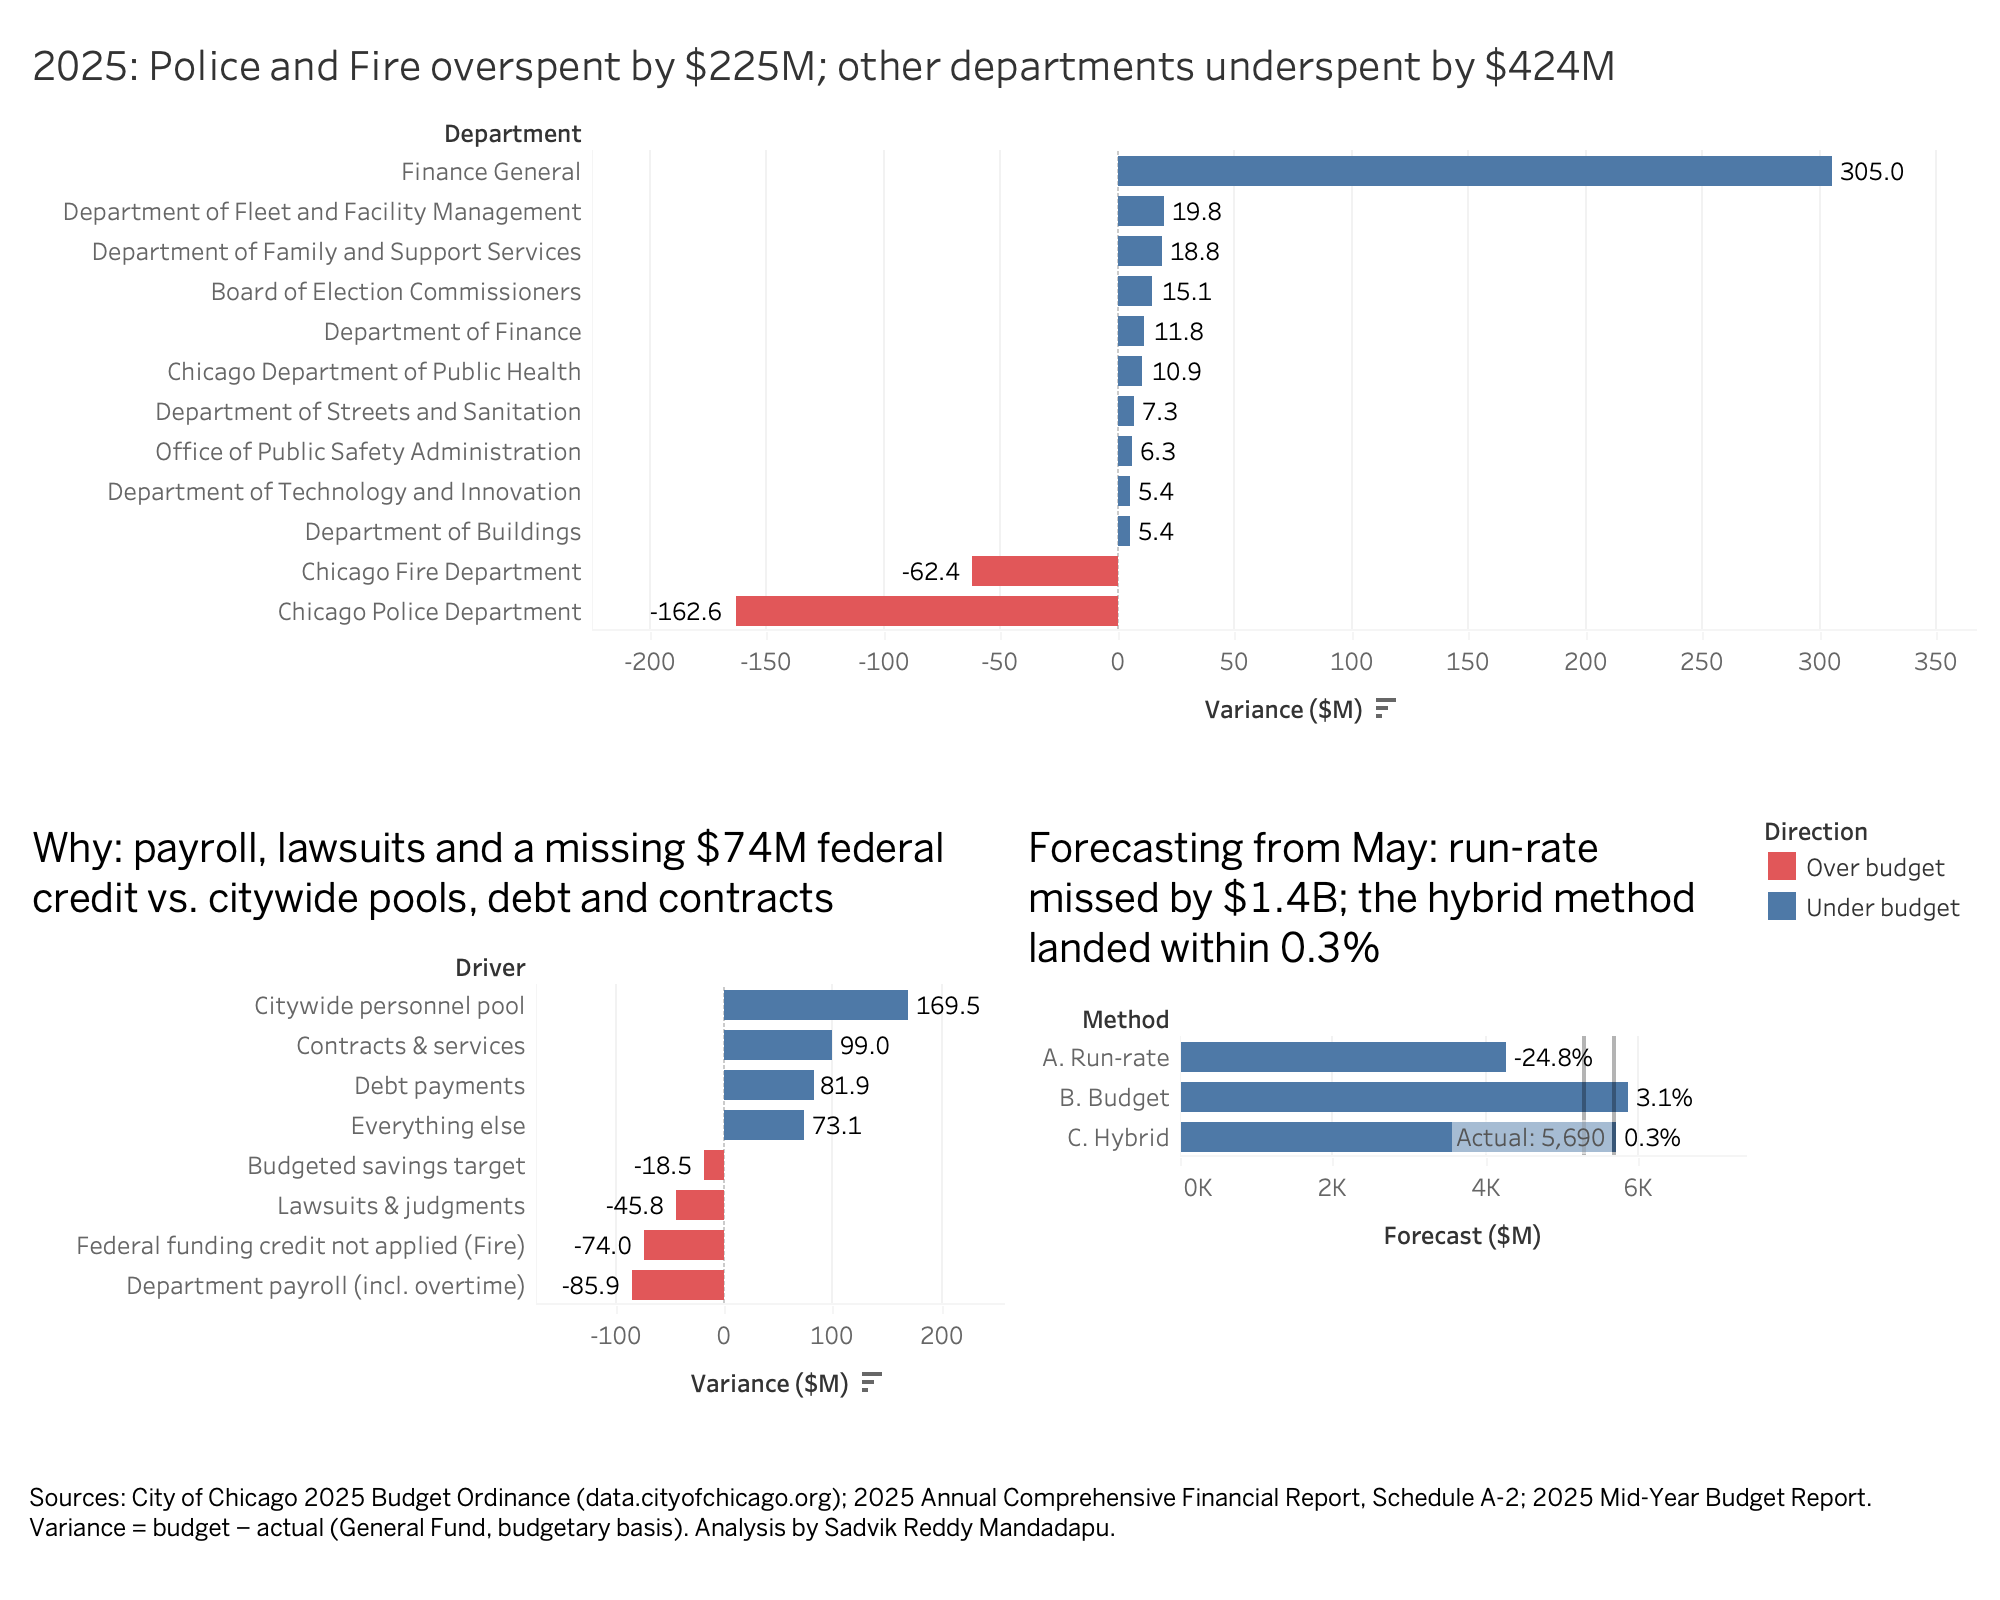

The dashboard page shown, as its layout file describes it:
{"tool":"tableau","page":{"name":"Chicago 2025 Budget vs Actual","canvas":[1000,800],"ordinal":0},"visuals":[{"type":"worksheet","title":"2025: Police and Fire overspent by $225M; other departments underspent by $424M","mark":"Automatic","rows":["Department"],"cols":["Variance ($M)"],"box":[8,8,984,392.8]},{"type":"worksheet","title":"Why: payroll overtime, lawsuits and a missing $74M federal credit drove overspending; citywide pools, debt and contracts","mark":"Automatic","rows":["Driver"],"cols":["Variance ($M)"],"box":[8,400.8,498.3,320.2]},{"type":"worksheet","title":"Forecast.","mark":"Automatic","rows":["Method"],"cols":["Forecast ($M)"],"box":[506.3,400.8,370.7,320.2]},{"type":"legend","title":"2025: Police and Fire overspent by $225M; other departments underspent by $424M","param":"[federated.1gpsa9f14dpxsc18gqqr01v6z79w].[none:Direction:nk]","box":[877,400.8,115,66]},{"type":"text","box":[8,721,984,71]}]}

Visuals, with their boxes in screenshot pixels (x1, y1, x2, y2), scaled from the page's 1000x800 canvas onto the 2000x1600 screenshot:
"2025: Police and Fire overspent by $225M; other departments underspent by $424M" worksheet: left=16, top=16, right=1984, bottom=802
"Why: payroll overtime, lawsuits and a missing $74M federal credit drove overspending; citywide pools, debt and contracts" worksheet: left=16, top=802, right=1013, bottom=1442
"Forecast." worksheet: left=1013, top=802, right=1754, bottom=1442
"2025: Police and Fire overspent by $225M; other departments underspent by $424M" legend: left=1754, top=802, right=1984, bottom=934
text: left=16, top=1442, right=1984, bottom=1584
